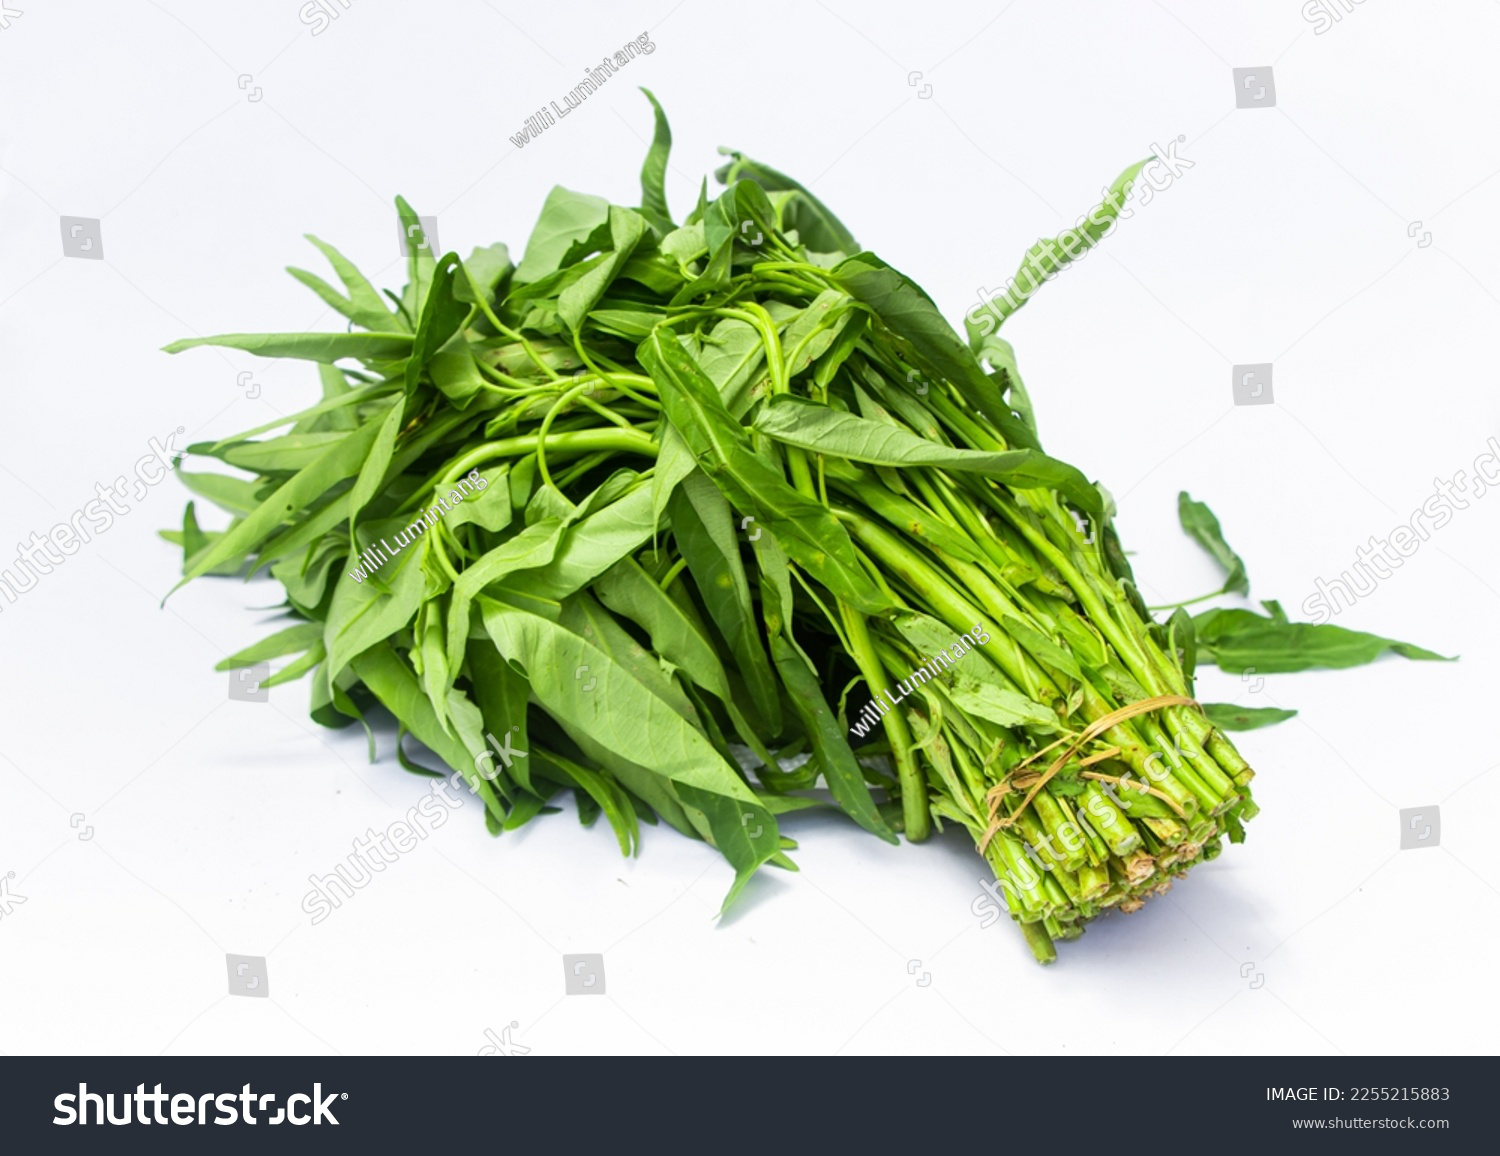Kangkung: (128, 80, 1388, 959)
